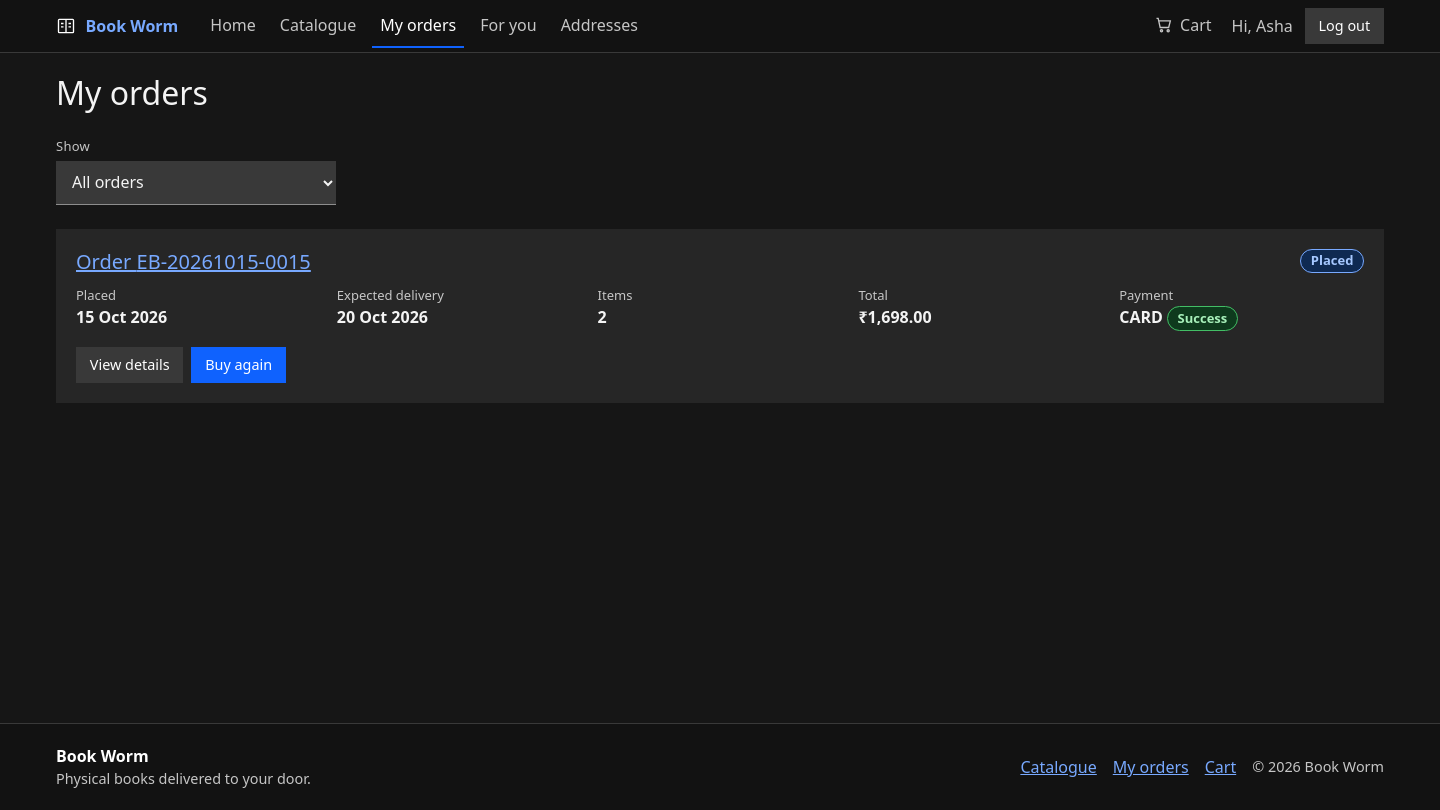
Test: Journey: order history, details, cancel and buy again › buy again from the history list fills the cart and opens it
Click the button with aria-label "Buy again: order EB-20261015-0015" at (239, 365), box [191, 347, 286, 383]
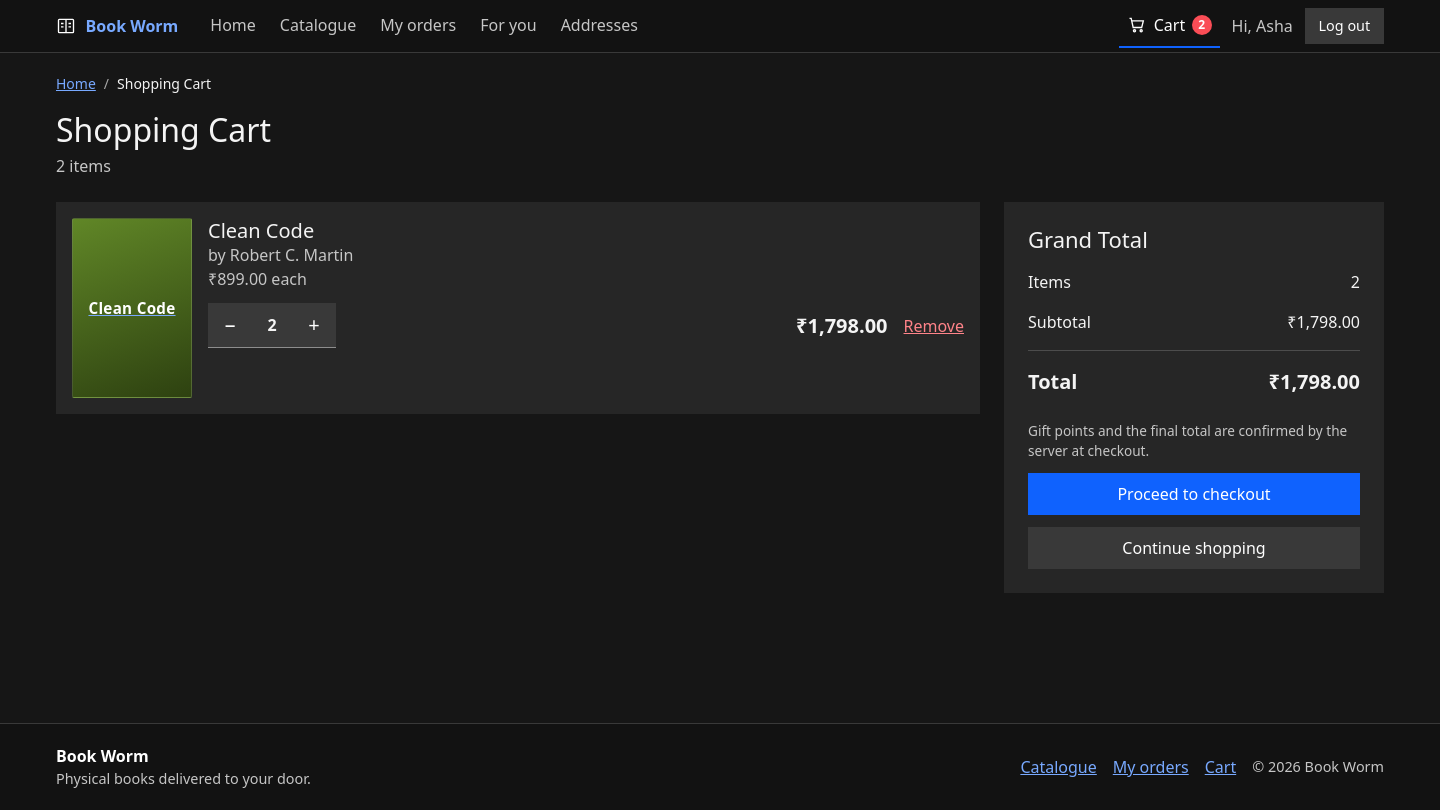
Check: the heading "Shopping Cart" is shown, box [56, 110, 271, 150]
